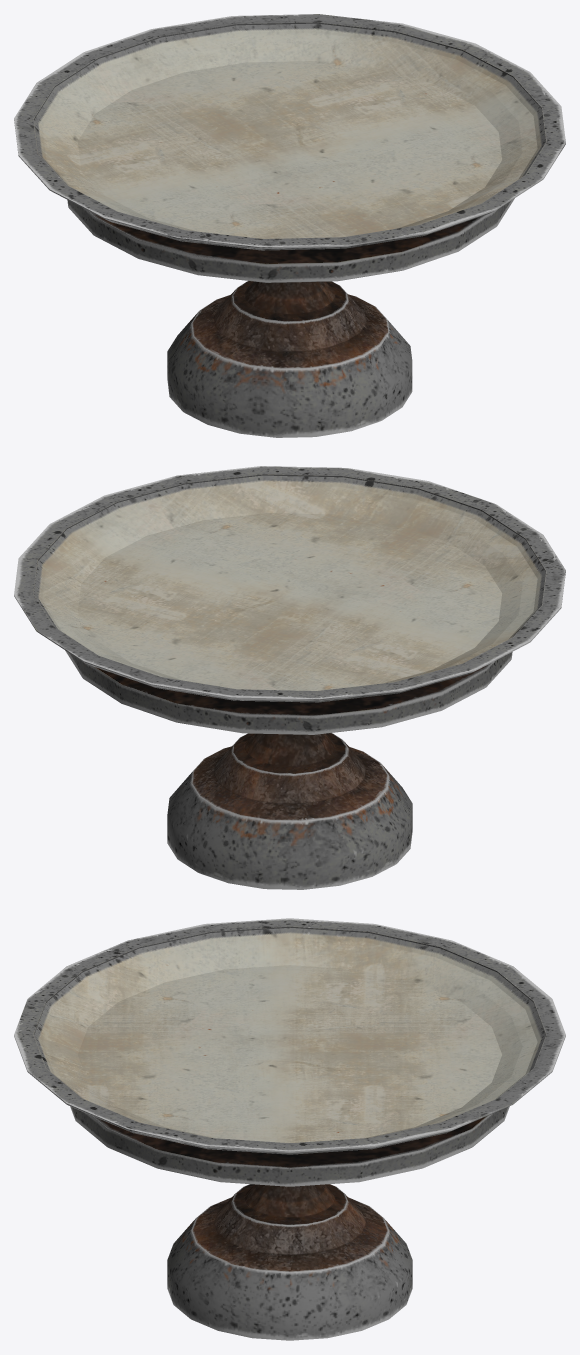
3 renders of one model, top to bottom at view 1: azimuth 30°, elevation 25°; view 2: azimuth 150°, elevation 25°; view 3: azimuth 270°, elevation 25°, orthographic.
Parts seen in each view (by area): view 1: Object_2; view 2: Object_2; view 3: Object_2.
Part boxes in pixels (x1,y1,x2,y2): Object_2: (14,14,565,437); Object_2: (14,466,565,889); Object_2: (14,918,565,1340).
Size of the model in its own units: 34.11 by 17.32 by 34.11.
1 material, 1 textured.
